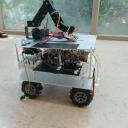cart: (14, 34, 98, 108)
